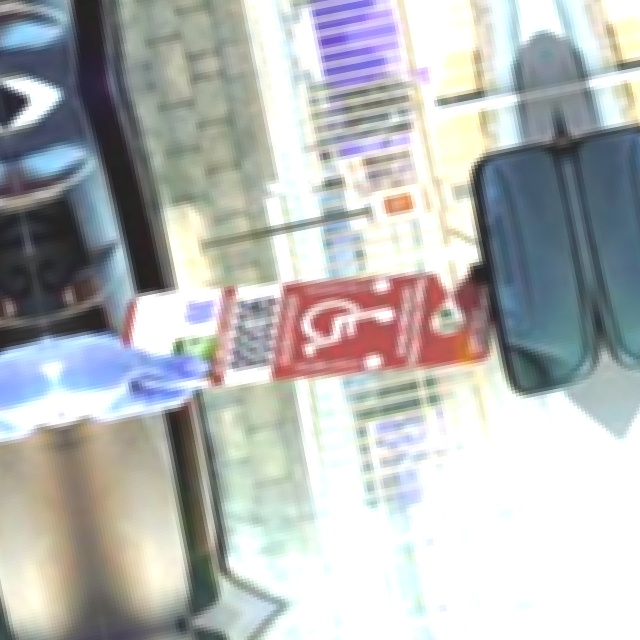ISA: (295, 287, 404, 356)
